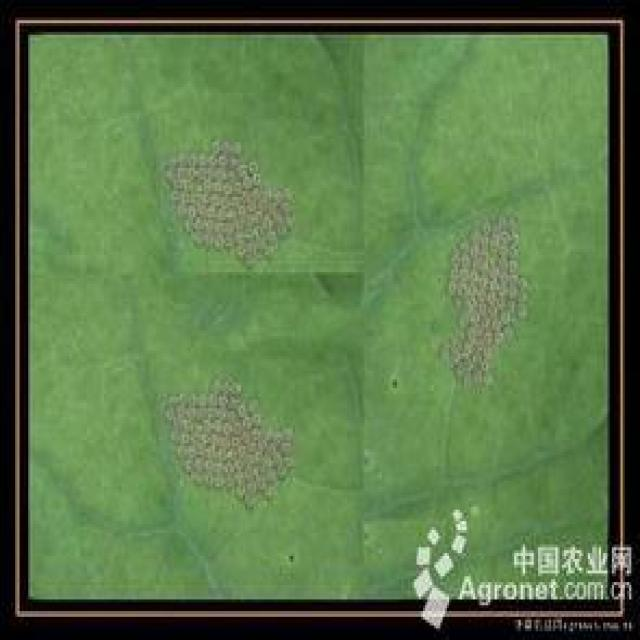armyworm: (164, 113, 311, 268), (175, 386, 297, 519), (440, 205, 523, 388)
